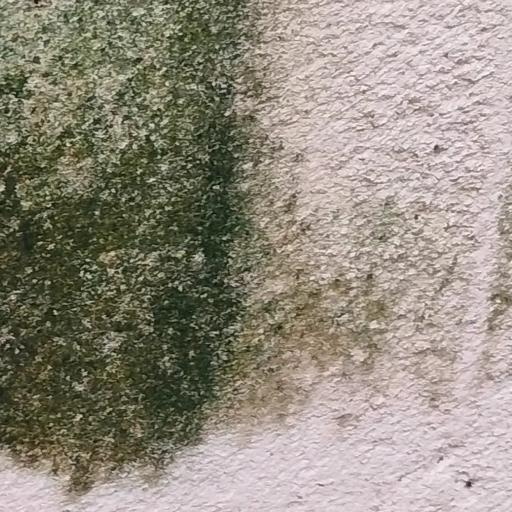algae: (0, 0, 336, 481)
